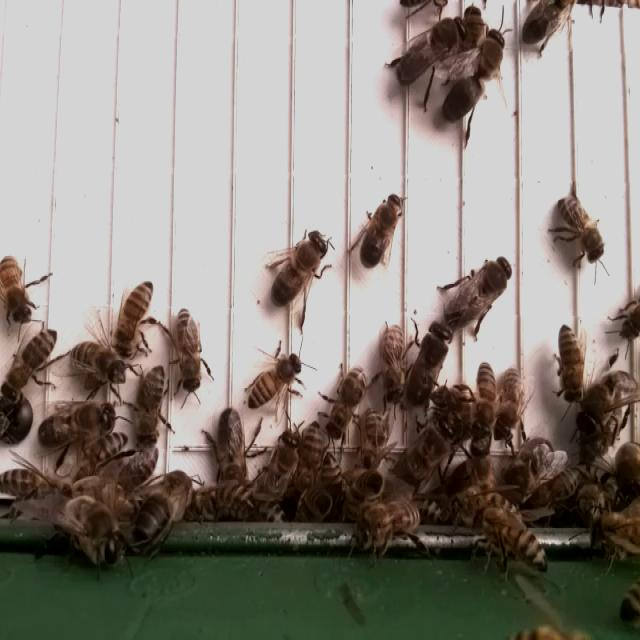Drone: (440, 26, 506, 128), (391, 15, 468, 89), (445, 251, 514, 331), (267, 226, 328, 314), (35, 399, 117, 456), (404, 320, 452, 410), (577, 372, 640, 437), (357, 190, 406, 272), (214, 403, 247, 492)
Worker: (4, 323, 58, 399), (475, 504, 544, 563), (246, 351, 305, 410), (556, 198, 606, 265), (115, 278, 155, 361), (325, 364, 366, 441), (171, 303, 202, 396), (70, 337, 123, 390), (495, 366, 528, 446), (556, 321, 587, 406), (379, 320, 409, 407), (135, 362, 167, 443), (0, 253, 33, 327), (473, 358, 496, 449), (298, 419, 324, 499)
